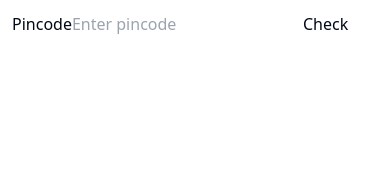
Test case: PincodeChecker look="clean" › asks again for a pincode that is not six digits, as one alert
This screenshot has width=365, height=172.
Step 1. Type "12345" into the field with placeholder "Enter pincode" → (187,24), box [72, 12, 303, 36]
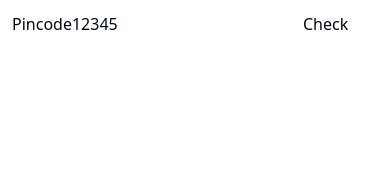
Step 2. Click the button "Check" → (326,24), box [303, 12, 348, 36]
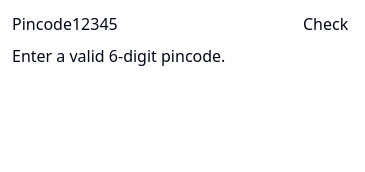
Check: the number of messages is 1, box [12, 45, 225, 67]
Check: the message reads "Enter a valid 6-digit pincode.", box [12, 45, 225, 67]
